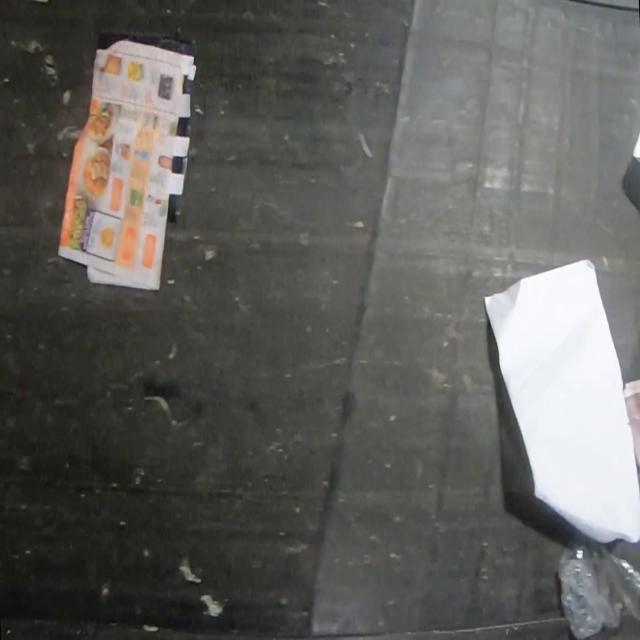rigid_plastic: (558, 528, 640, 640)
